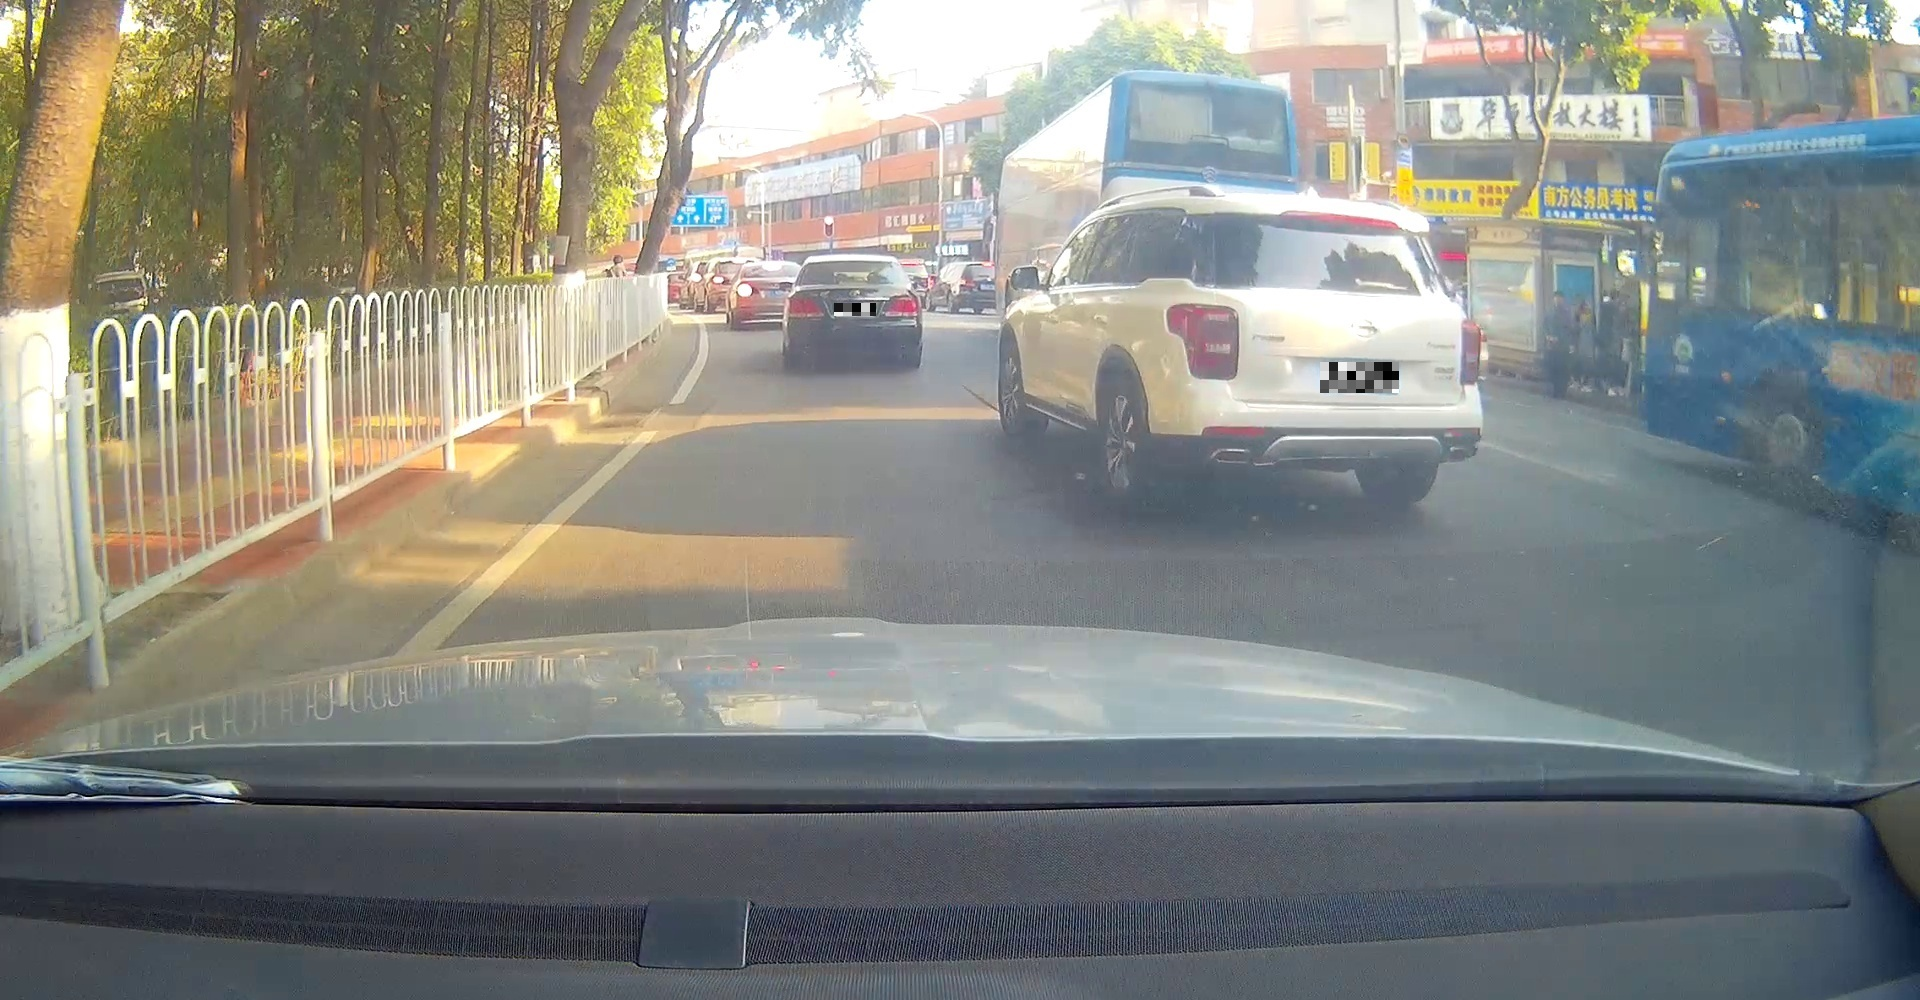L_light: (1164, 303, 1239, 381), (785, 296, 825, 319)
R_light: (1462, 317, 1482, 385), (885, 294, 921, 316)
T_light: (1281, 209, 1399, 228), (847, 261, 865, 265)
day-no: (1162, 192, 1484, 501), (783, 254, 923, 367)
plate_1: (834, 303, 876, 316)
plate_2: (1321, 362, 1399, 393)
